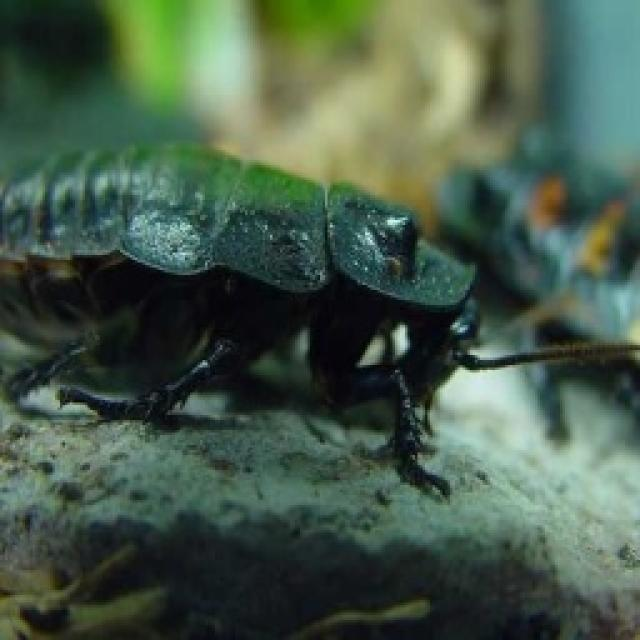cockroach: (2, 136, 637, 502)
